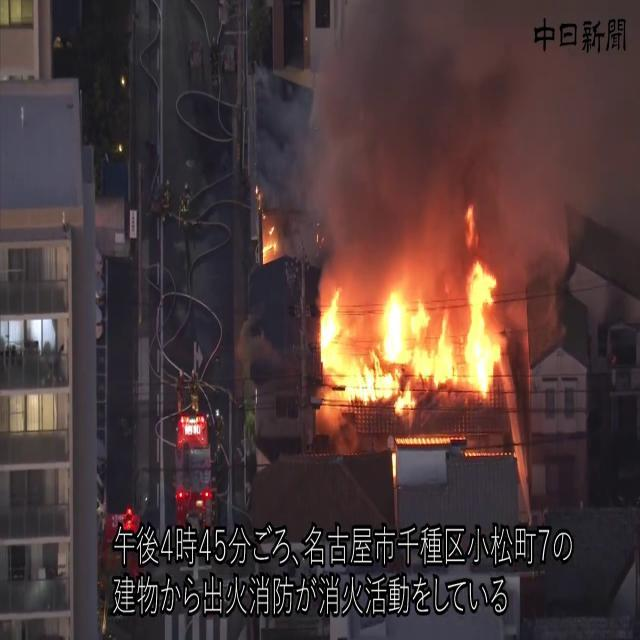Fire: (310, 250, 511, 418), (259, 220, 282, 266)
Smoke: (281, 1, 638, 263)
